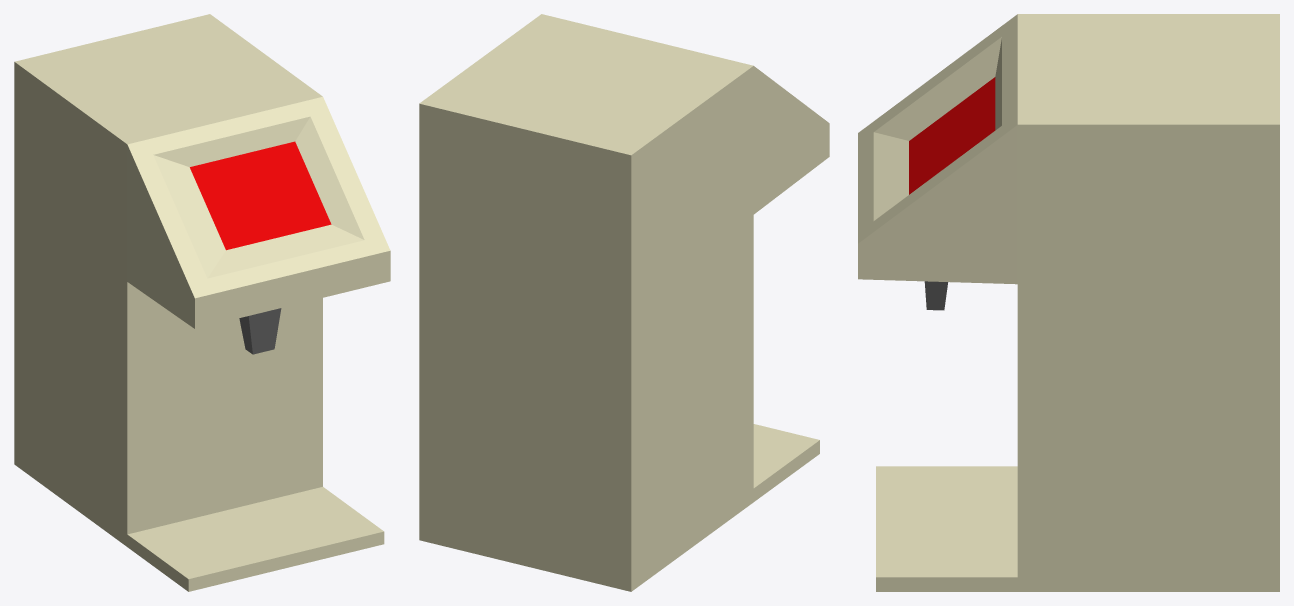
File: sugarmachine.fbx
The picture shows the model from 3 angles, left to right: view 1: azimuth 30°, elevation 25°; view 2: azimuth 150°, elevation 25°; view 3: azimuth 270°, elevation 25°; orthographic projection. The views are drawn at different scales.
Parts seen in each view (by area): view 1: Cube; view 2: Cube; view 3: Cube.
Boxes of the visible parts, x1,y1,x2,y2 form: Cube: (14,14,390,591); Cube: (419,14,829,591); Cube: (858,14,1279,591).
Bounding box in the file's own units: 45.07 × 88.05 × 72.04.
